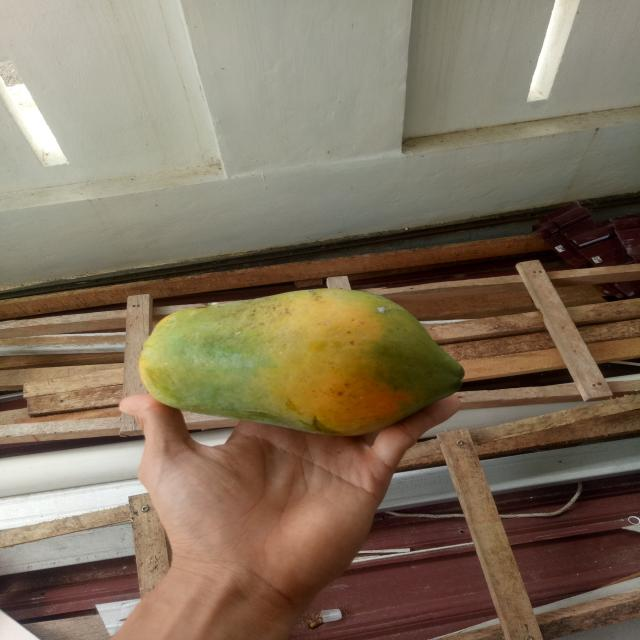Pepaya rippen: (128, 285, 466, 454)
